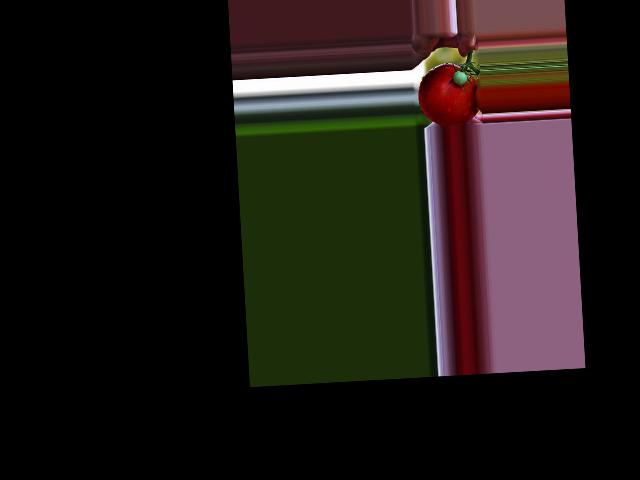tomato: (417, 61, 479, 128)
